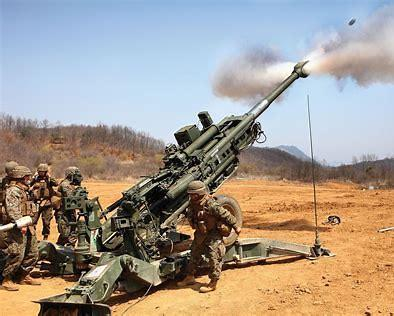MIL_SPG: (38, 62, 308, 315), (224, 229, 310, 263)
